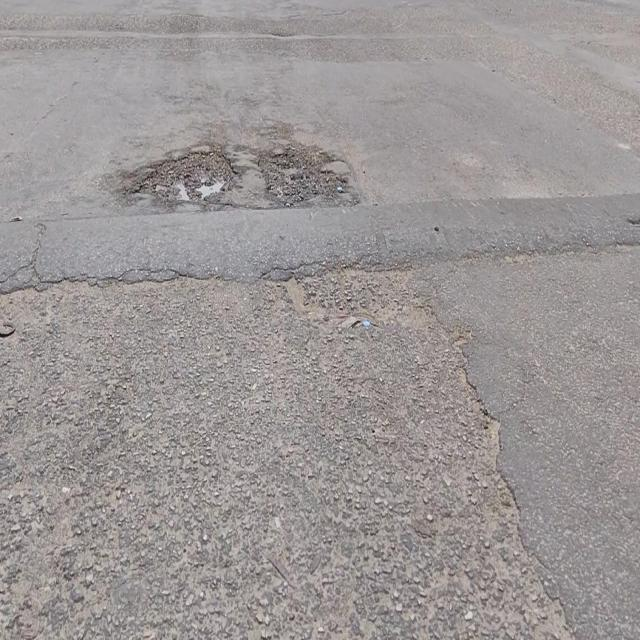Potholes: (129, 154, 238, 208), (262, 147, 347, 202)
